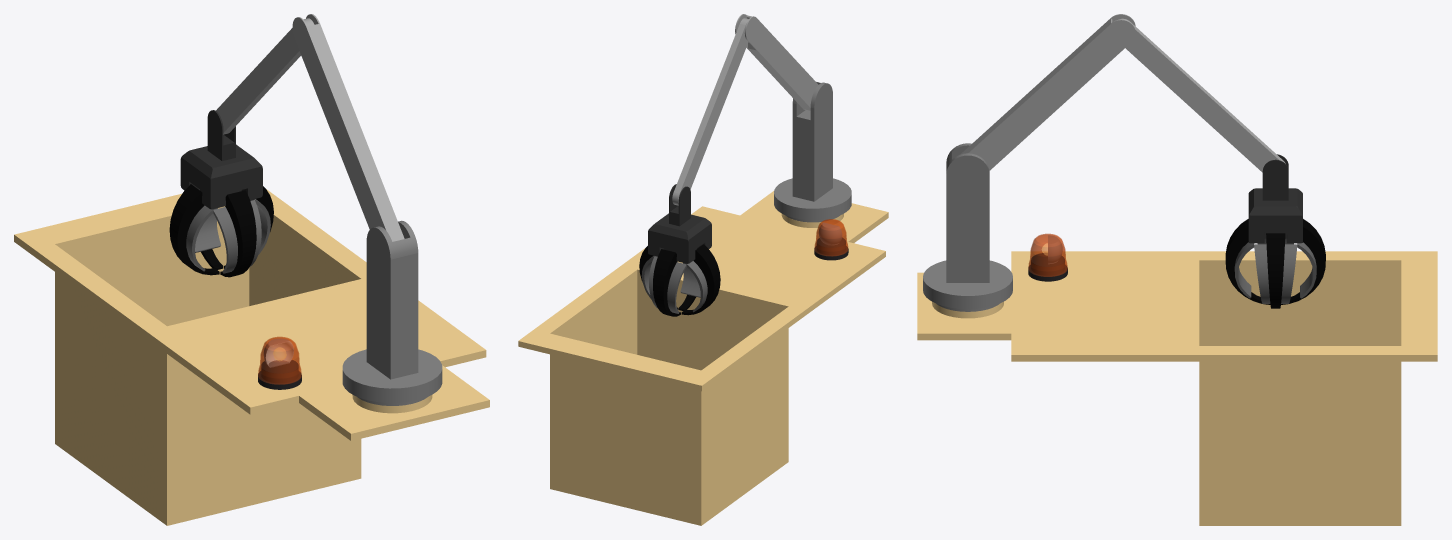
File: excavator.glb
The picture shows the model from 3 angles, left to right: view 1: azimuth 30°, elevation 25°; view 2: azimuth 150°, elevation 25°; view 3: azimuth 270°, elevation 25°; orthographic projection. The views are drawn at different scales.
Visible parts, largest first — view 1: base, rotating-platform, arm-rotating-platform, jaws, jaw-3, arm-jaws, jaw-1, beacon-light-base, jaw-2, beacon-light-mirror, jaw-4, rotating-platform-base; view 2: base, rotating-platform, jaws, arm-rotating-platform, arm-jaws, jaw-2, jaw-1, beacon-light-base, jaw-3, beacon-light-mirror, jaw-4; view 3: base, rotating-platform, arm-rotating-platform, arm-jaws, jaws, jaw-4, beacon-light-base, jaw-3, jaw-2.
Boxes of the visible parts, <box> form: base: <box>14,189,489,525</box>; rotating-platform: <box>342,220,442,405</box>; arm-rotating-platform: <box>292,14,404,241</box>; jaws: <box>180,110,262,209</box>; jaw-3: <box>213,190,261,277</box>; arm-jaws: <box>216,18,314,134</box>; jaw-1: <box>169,184,219,275</box>; beacon-light-base: <box>258,336,301,389</box>; jaw-2: <box>195,208,223,269</box>; beacon-light-mirror: <box>263,338,293,367</box>; jaw-4: <box>224,186,273,268</box>; rotating-platform-base: <box>352,394,432,413</box>; base: <box>518,191,888,525</box>; rotating-platform: <box>774,82,851,222</box>; jaws: <box>648,184,711,263</box>; arm-rotating-platform: <box>735,14,818,110</box>; arm-jaws: <box>672,18,748,205</box>; jaw-2: <box>649,249,686,316</box>; jaw-1: <box>681,244,720,315</box>; beacon-light-base: <box>814,219,848,260</box>; jaw-3: <box>678,263,700,310</box>; beacon-light-mirror: <box>818,222,842,245</box>; jaw-4: <box>639,246,678,309</box>; base: <box>917,251,1437,525</box>; rotating-platform: <box>923,143,1012,311</box>; arm-rotating-platform: <box>960,14,1135,170</box>; arm-jaws: <box>1118,18,1285,172</box>; jaws: <box>1248,154,1302,243</box>; jaw-4: <box>1254,233,1297,308</box>; beacon-light-base: <box>1028,233,1067,281</box>; jaw-3: <box>1225,219,1270,304</box>; jaw-2: <box>1281,219,1325,304</box>.
Bounding box in the file's own units: 0.34 × 0.7121 × 0.72.
